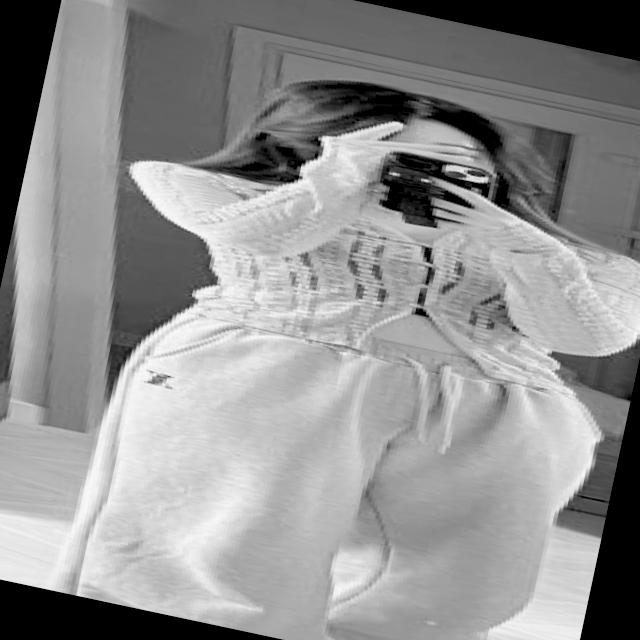cardigan: (101, 94, 640, 410)
trainingpants: (54, 280, 607, 640)
